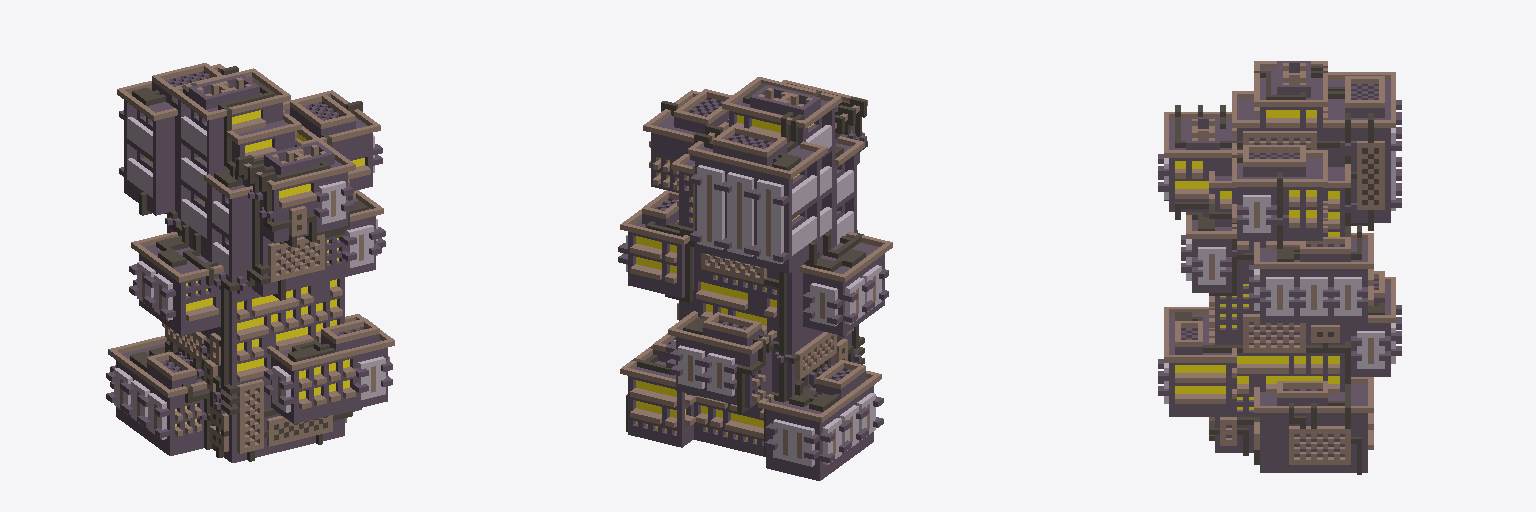
The picture shows the model from 3 angles: view 1: azimuth 30°, elevation 25°; view 2: azimuth 150°, elevation 25°; view 3: azimuth 270°, elevation 25°; orthographic projection.
Visible parts, largest first — view 1: object 1; view 2: object 1; view 3: object 1.
Boxes of the visible parts, x1,y1,x2,y2 form: object 1: [106, 63, 394, 462]; object 1: [618, 77, 892, 480]; object 1: [1158, 61, 1401, 474].
Size of the model in its own units: 4.3 by 6.6 by 4.3.
Materials: 1 (1 with a texture image).